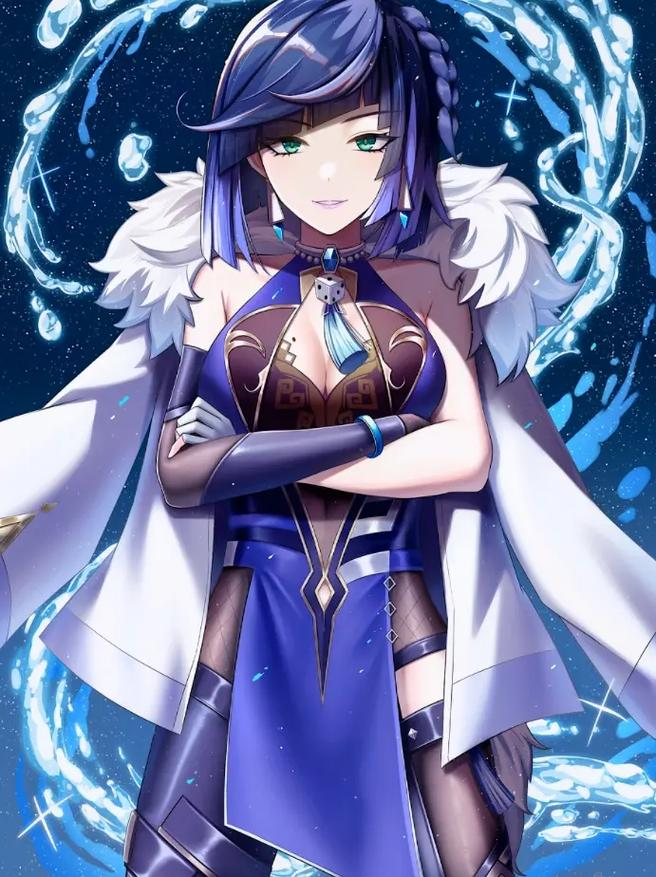夜兰: (105, 1, 539, 877)
